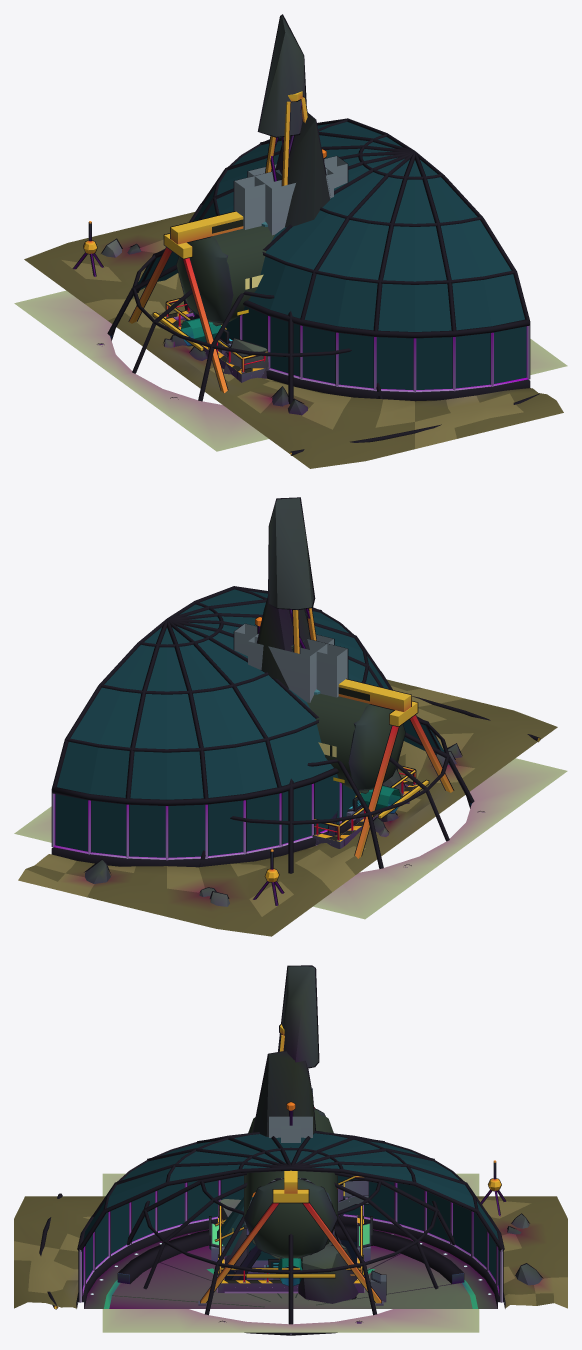
The model's file is fps-kit-seabase.glb.
3 views of the same model, one above another, from view 1: azimuth 30°, elevation 25°; view 2: azimuth 150°, elevation 25°; view 3: azimuth 270°, elevation 25° (orthographic). The views are drawn at different scales.
Parts seen in each view (by area): view 1: KIT_SEABASE_Landmark_Obs_Glass, KIT_SEABASE_Obs_Seabed, KIT_SEABASE_Landmark_Obs, KIT_SEABASE_HubDome, KIT_SEABASE_BD_Spire, KIT_SEABASE_BD_Pod, KIT_SEABASE_MoonPool_Crane, KIT_SEABASE_GateFrame, KIT_SEABASE_Bulkhead, KIT_SEABASE_Landmark_MoonPool, KIT_SEABASE_BD_Pylon, KIT_SEABASE_BD_Rock_B (+1 smaller); view 2: KIT_SEABASE_Landmark_Obs_Glass, KIT_SEABASE_Obs_Seabed, KIT_SEABASE_Landmark_Obs, KIT_SEABASE_HubDome, KIT_SEABASE_BD_Spire, KIT_SEABASE_BD_Pod, KIT_SEABASE_MoonPool_Crane, KIT_SEABASE_Bulkhead, KIT_SEABASE_GateFrame, KIT_SEABASE_Landmark_MoonPool, KIT_SEABASE_BD_Pylon, KIT_SEABASE_BD_Pipe; view 3: KIT_SEABASE_Landmark_Obs, KIT_SEABASE_Landmark_Obs_Glass, KIT_SEABASE_Obs_Seabed, KIT_SEABASE_HubDome, KIT_SEABASE_BD_Pod, KIT_SEABASE_BD_Spire, KIT_SEABASE_MoonPool_Crane, KIT_SEABASE_BD_Rock_B, KIT_SEABASE_Landmark_MoonPool, KIT_SEABASE_Stair, KIT_SEABASE_Landmark_Hub, KIT_SEABASE_Bulkhead (+1 smaller).
Part boxes in pixels (<box>): KIT_SEABASE_Landmark_Obs_Glass: <box>192,121,526,389</box>; KIT_SEABASE_Obs_Seabed: <box>24,212,563,468</box>; KIT_SEABASE_Landmark_Obs: <box>184,118,530,401</box>; KIT_SEABASE_HubDome: <box>14,249,567,451</box>; KIT_SEABASE_BD_Spire: <box>257,14,330,227</box>; KIT_SEABASE_BD_Pod: <box>176,149,326,326</box>; KIT_SEABASE_MoonPool_Crane: <box>128,211,243,393</box>; KIT_SEABASE_GateFrame: <box>233,156,348,229</box>; KIT_SEABASE_Bulkhead: <box>247,164,333,235</box>; KIT_SEABASE_Landmark_MoonPool: <box>164,298,269,382</box>; KIT_SEABASE_BD_Pylon: <box>265,91,308,185</box>; KIT_SEABASE_BD_Rock_B: <box>223,338,268,378</box>; KIT_SEABASE_Landmark_Obs_Glass: <box>55,589,388,857</box>; KIT_SEABASE_Obs_Seabed: <box>18,679,557,936</box>; KIT_SEABASE_Landmark_Obs: <box>51,586,397,867</box>; KIT_SEABASE_HubDome: <box>14,716,567,919</box>; KIT_SEABASE_BD_Spire: <box>257,497,315,688</box>; KIT_SEABASE_BD_Pod: <box>255,616,405,835</box>; KIT_SEABASE_MoonPool_Crane: <box>338,678,454,858</box>; KIT_SEABASE_Bulkhead: <box>248,634,334,702</box>; KIT_SEABASE_GateFrame: <box>233,623,348,697</box>; KIT_SEABASE_Landmark_MoonPool: <box>312,765,419,848</box>; KIT_SEABASE_BD_Pylon: <box>289,608,316,653</box>; KIT_SEABASE_BD_Pipe: <box>355,785,400,822</box>; KIT_SEABASE_Landmark_Obs: <box>76,1130,505,1308</box>; KIT_SEABASE_Landmark_Obs_Glass: <box>82,1133,499,1288</box>; KIT_SEABASE_Obs_Seabed: <box>14,1162,567,1309</box>; KIT_SEABASE_HubDome: <box>102,1172,479,1335</box>; KIT_SEABASE_BD_Pod: <box>230,1101,343,1279</box>; KIT_SEABASE_BD_Spire: <box>252,965,347,1248</box>; KIT_SEABASE_MoonPool_Crane: <box>198,1107,383,1305</box>; KIT_SEABASE_BD_Rock_B: <box>219,1199,358,1303</box>; KIT_SEABASE_Landmark_MoonPool: <box>217,1205,386,1302</box>; KIT_SEABASE_Stair: <box>214,1175,368,1258</box>; KIT_SEABASE_Landmark_Hub: <box>207,1216,374,1279</box>; KIT_SEABASE_Bulkhead: <box>269,1088,312,1181</box>.
Size of the model in its own units: 17 by 14.96 by 25.
Materials: 1 (1 with a texture image).
